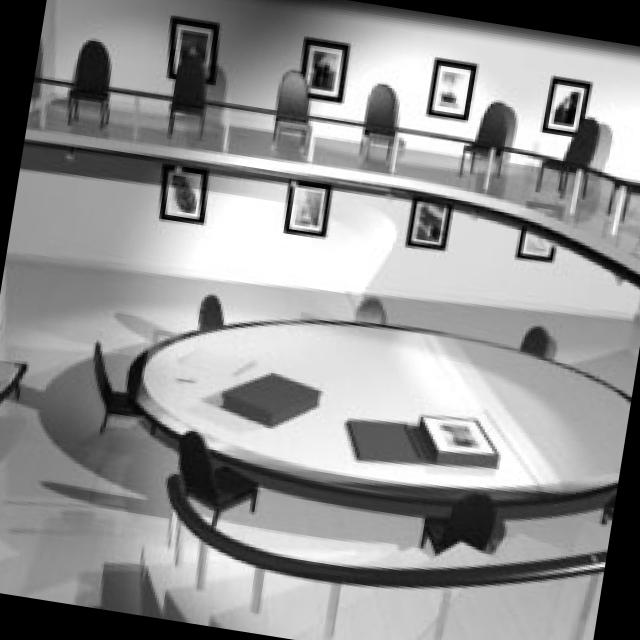book case: (345, 409, 497, 467)
box contants: (218, 365, 319, 426)
chair: (516, 322, 549, 361), (194, 289, 223, 328), (351, 292, 383, 322)
chair -occluded-: (173, 426, 259, 521), (89, 342, 150, 435), (412, 489, 498, 553), (531, 115, 596, 197), (455, 97, 514, 184), (354, 80, 402, 169), (61, 39, 109, 127), (268, 65, 310, 148), (163, 49, 203, 134), (604, 176, 640, 226)
conference table: (127, 318, 625, 502)
painting crop: (164, 8, 219, 83), (299, 34, 347, 103), (424, 54, 475, 118), (540, 68, 591, 130), (156, 163, 205, 223), (278, 181, 326, 237), (405, 195, 451, 248), (512, 223, 555, 263)
stairs: (136, 471, 603, 640)
